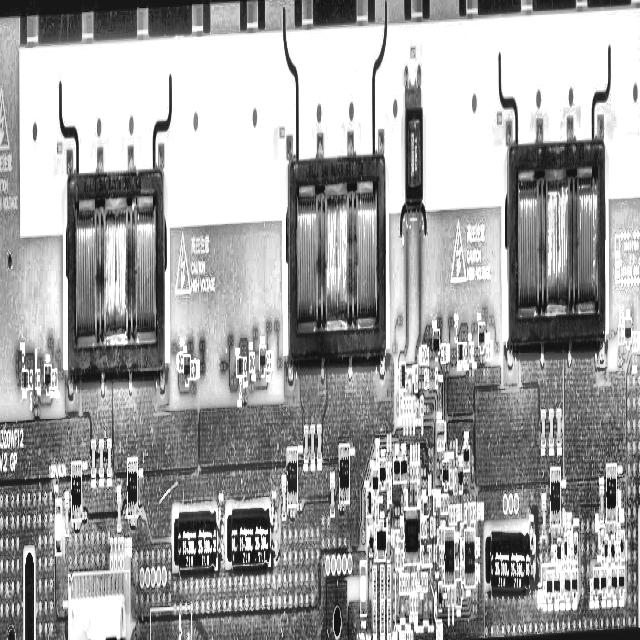PCB: (0, 9, 640, 638)
